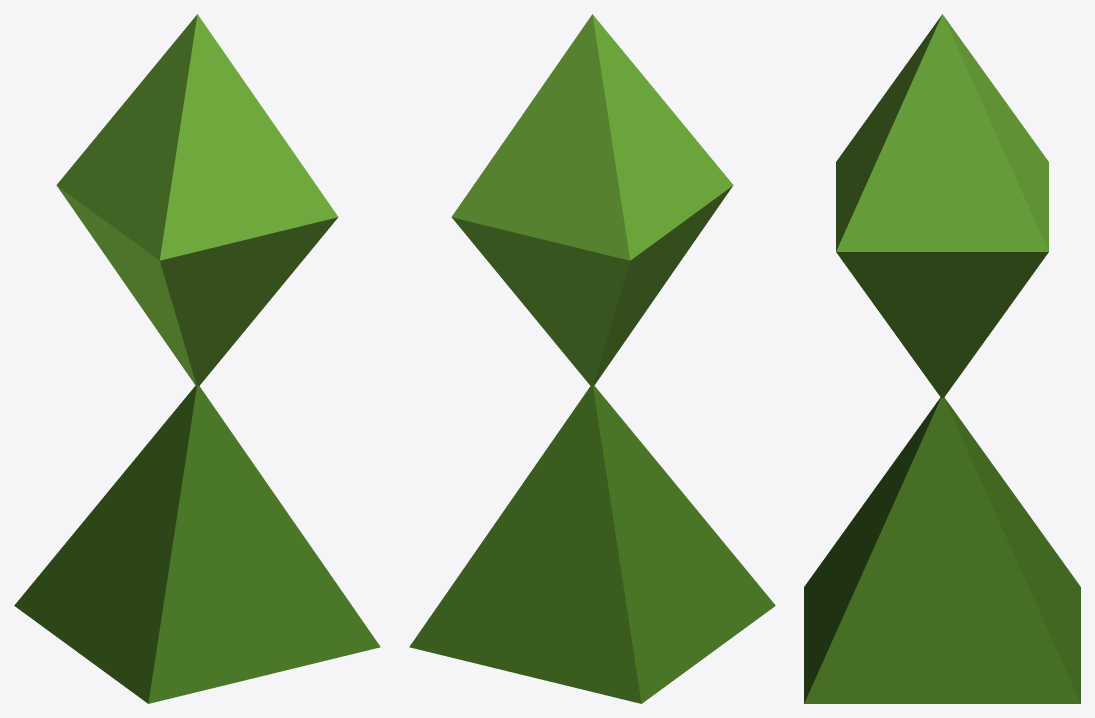
File: Piramid Structure.fbx
3 views of the same model, side by side, from view 1: azimuth 30°, elevation 25°; view 2: azimuth 150°, elevation 25°; view 3: azimuth 270°, elevation 25° (orthographic). The views are drawn at different scales.
Parts seen in each view (by area): view 1: bottom, middle; view 2: bottom, middle; view 3: bottom, middle.
Boxes of the visible parts, bbox=[...] form: bottom: bbox=[14, 385, 380, 703]; middle: bbox=[56, 14, 338, 386]; bottom: bbox=[409, 385, 775, 703]; middle: bbox=[451, 14, 733, 386]; bottom: bbox=[804, 397, 1080, 703]; middle: bbox=[836, 14, 1048, 397].
Size of the model in its own units: 260 by 654 by 260.
